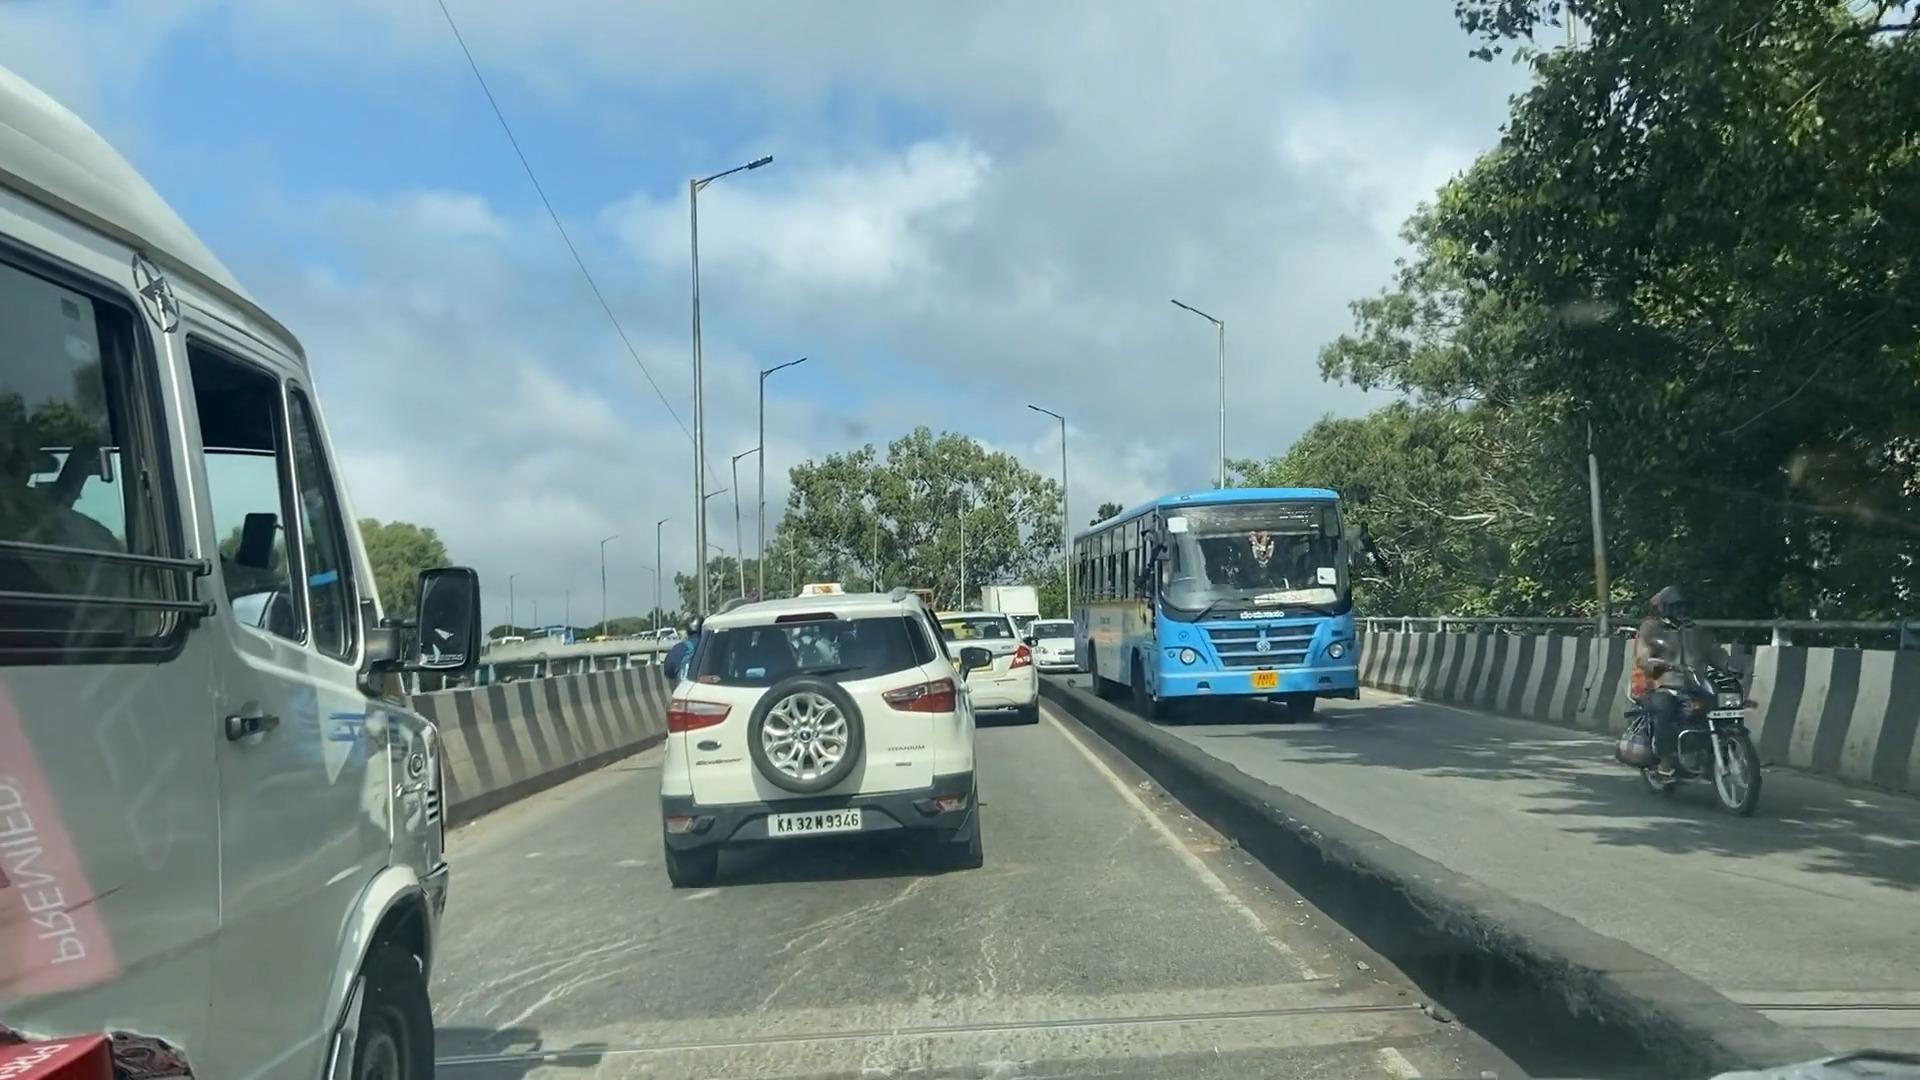LMV: (657, 592, 980, 880)
SpeedBump: (463, 982, 1435, 1080)
